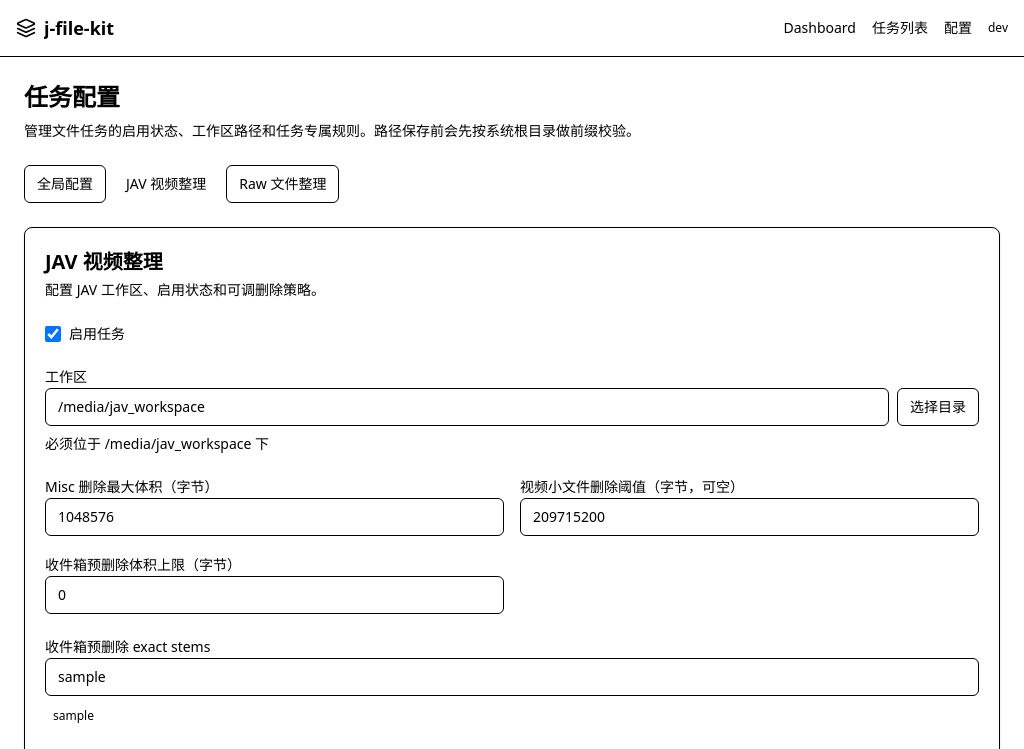
Test: Config page › selects a workspace from the media picker
Click the button "选择目录".
click(938, 407)  # box [897,388,979,426]
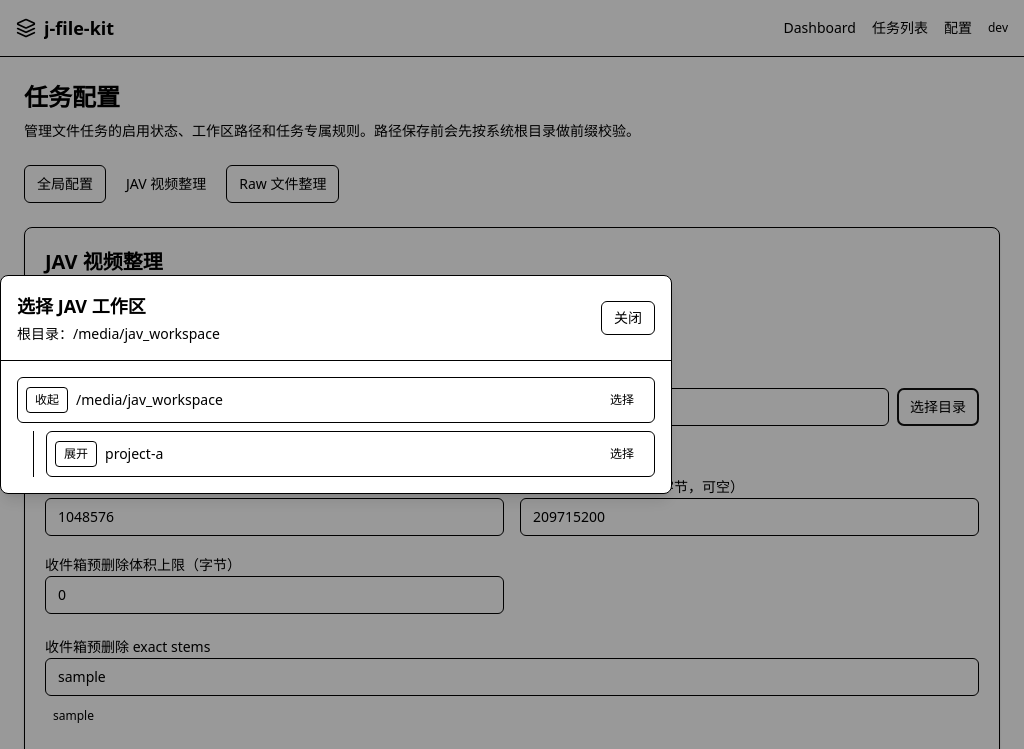
Check: the dialog is shown, box [0,274,672,494]
Check: the text "project-a" is shown, box [105,444,163,464]
Click the button "选择" in the row of "project-a".
click(622, 454)  # box [598,440,646,468]
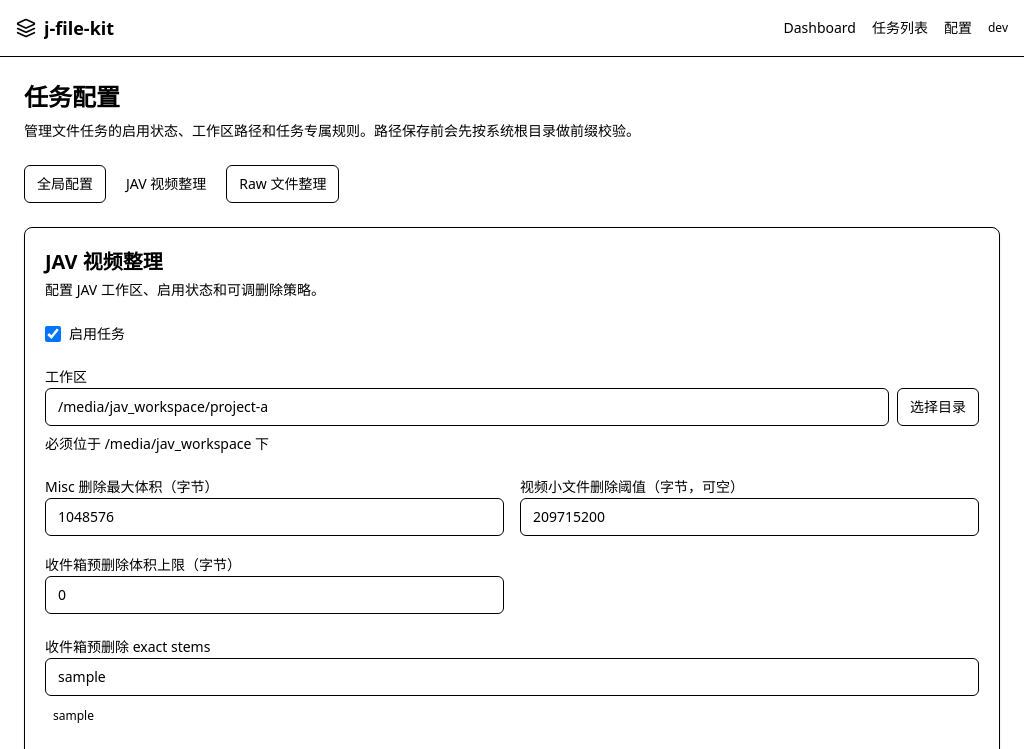
Check: the field showing "/media/jav_workspace/project-a" is shown, box [45,388,889,426]
